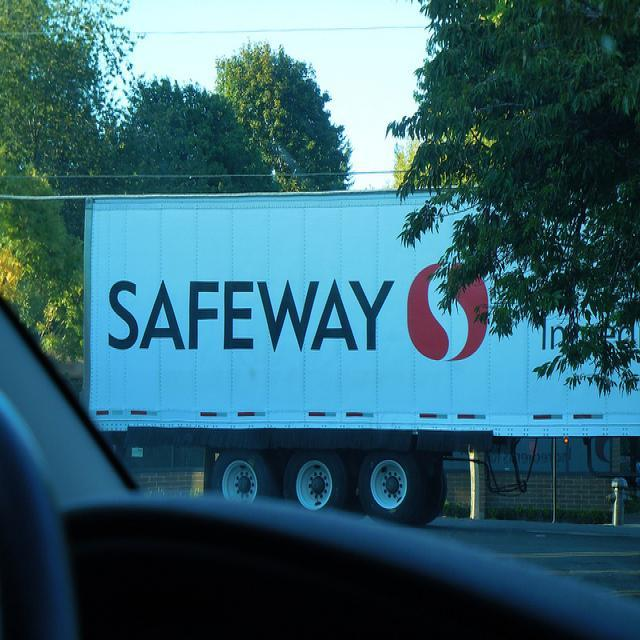fire_hydrant: (605, 476, 632, 524)
